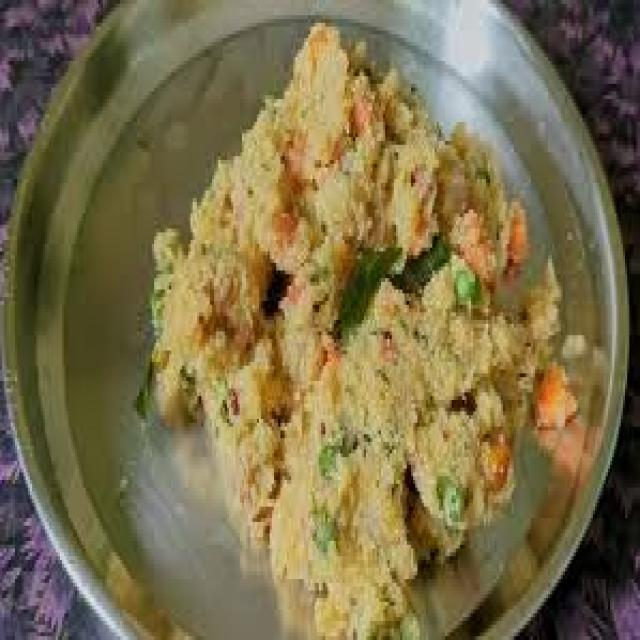UPMA: (143, 30, 576, 636)
